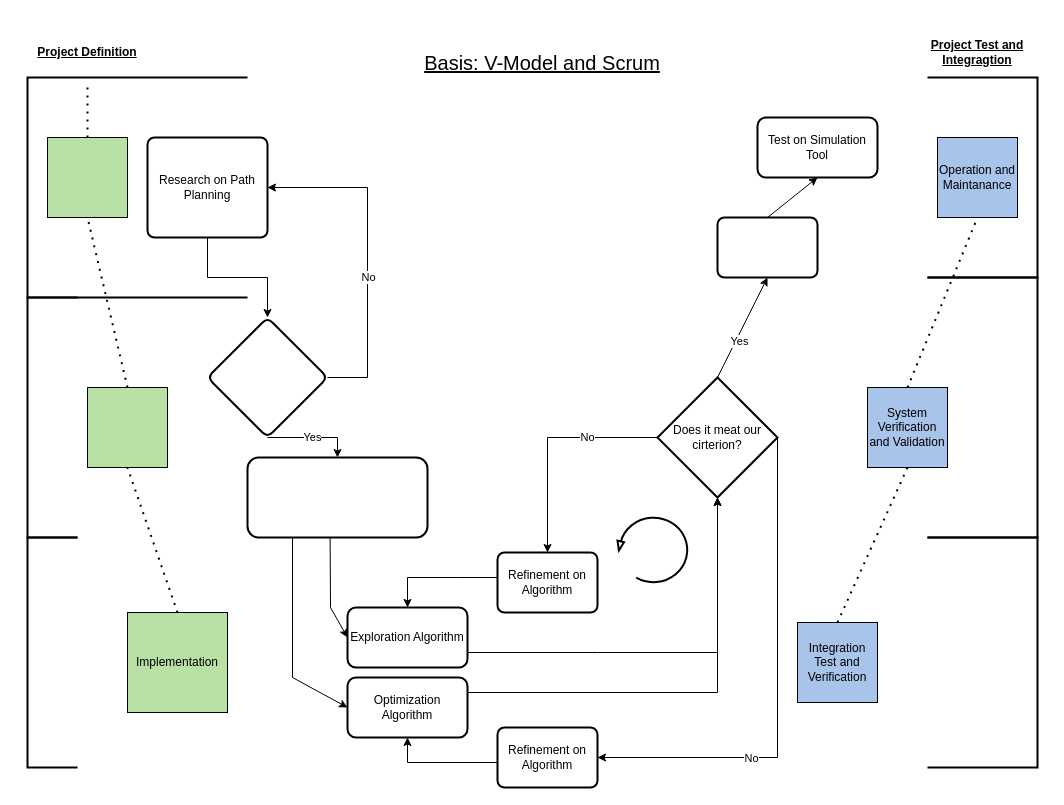
This 1064x805 diagram has some shape labels left out. The shapes that lost their labels are listed below. From the top down, each one's box as (x1, y1, x2, y2) in pixels, then its label:
(46, 136, 128, 218): Concept of Operation
(716, 216, 818, 278): Create interfaces and algorithm swich
(206, 316, 328, 438): Should we use it?
(86, 386, 168, 468): Requirements and Architecture
(246, 456, 428, 538): Split Problem in two small ones
